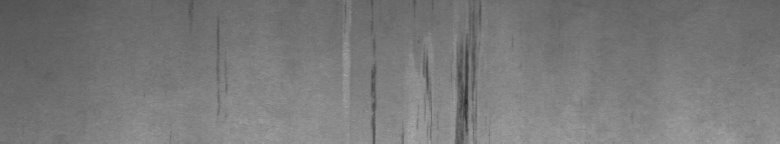hd: (343, 4, 484, 136)
